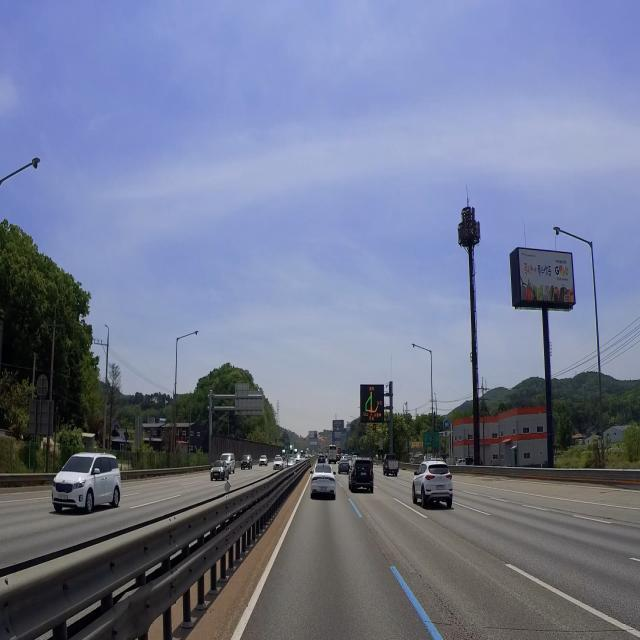car: (55, 490, 69, 506), (434, 479, 448, 495), (357, 469, 373, 481), (318, 481, 329, 498)
